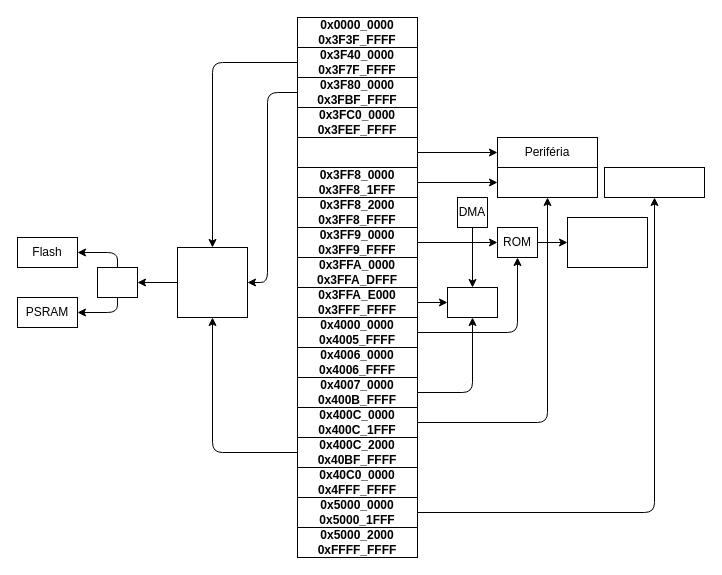
Some shapes in this 722 by 575 pixel diagram are drawn without their labels. Each missing label, with the centre of its shape:
"0x3FF0_0000 0x3FF7_FFFF" belongs at [357,152].
"Cache" belongs at [212,282].
"eFuses 4x 256-bit BLK0 - BLK3" belongs at [607,242].
"MMU" belongs at [117,282].
"RTC FAST" belongs at [547,182].
"RTC SLOW" belongs at [654,182].
"SRAM" belongs at [472,302].
